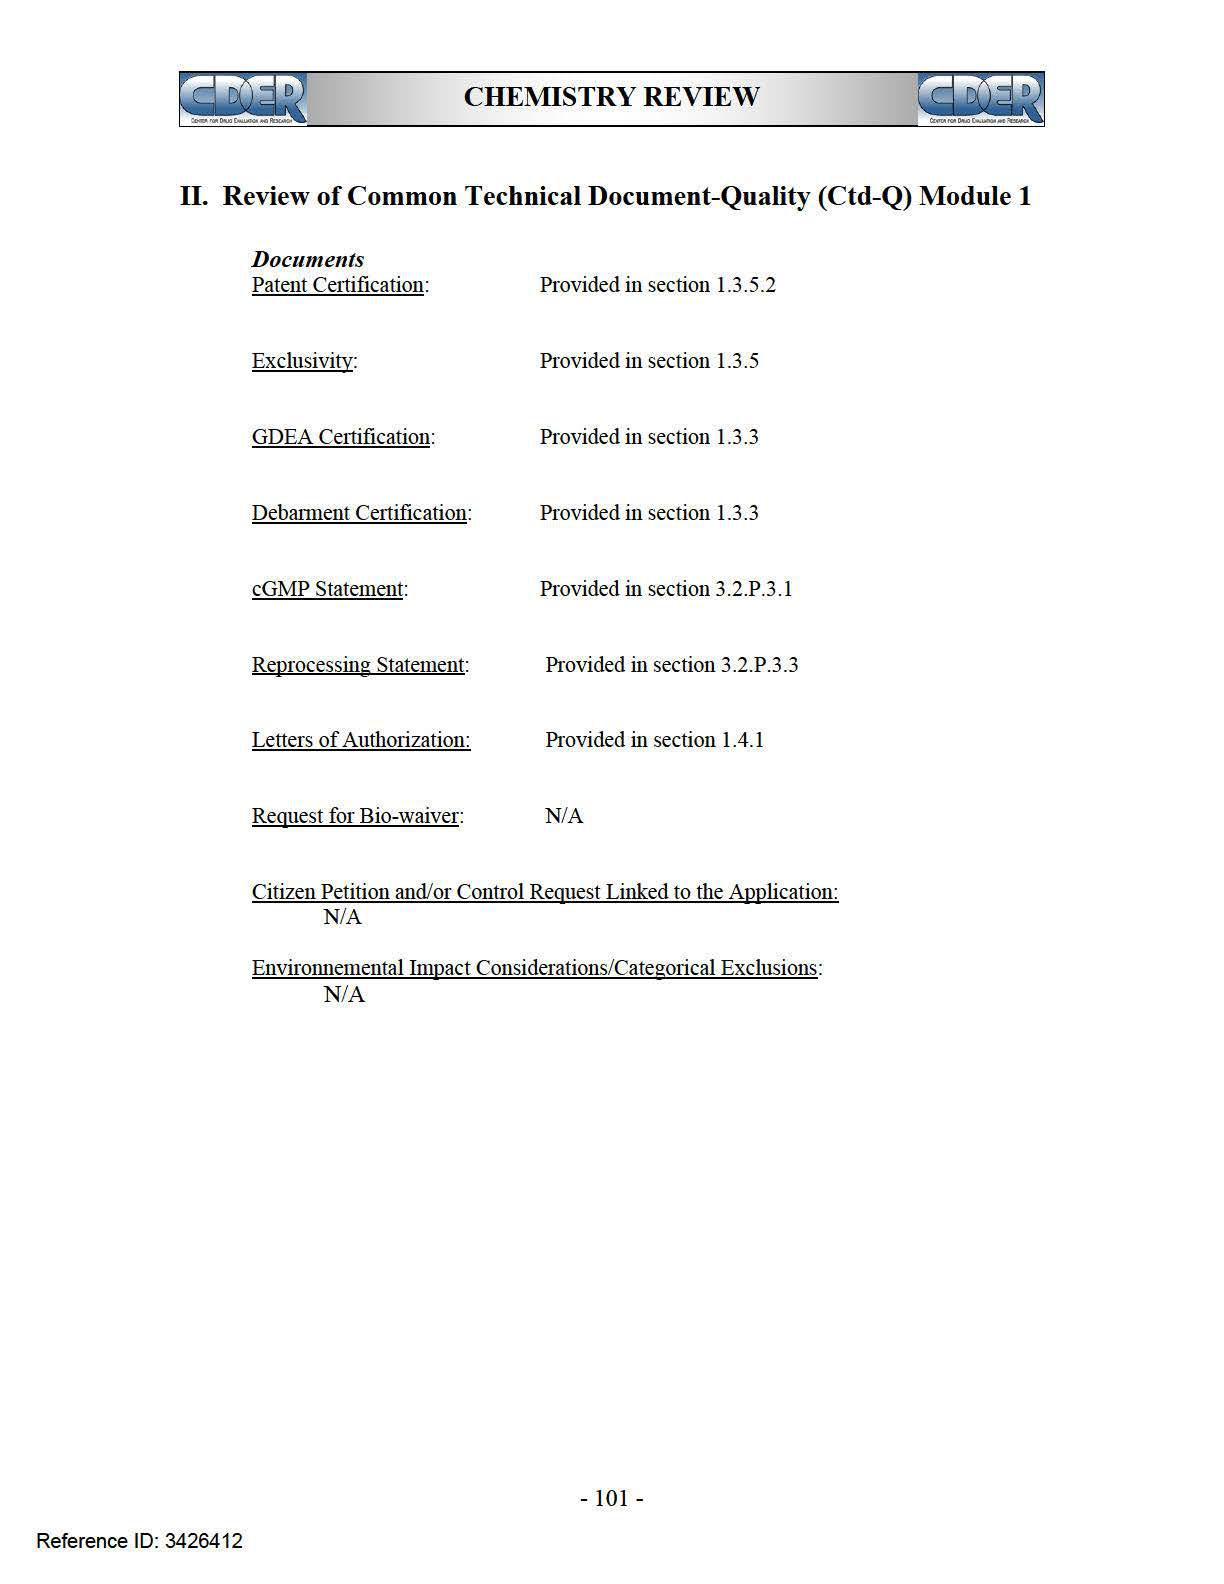nolines: (247, 247, 806, 827)
